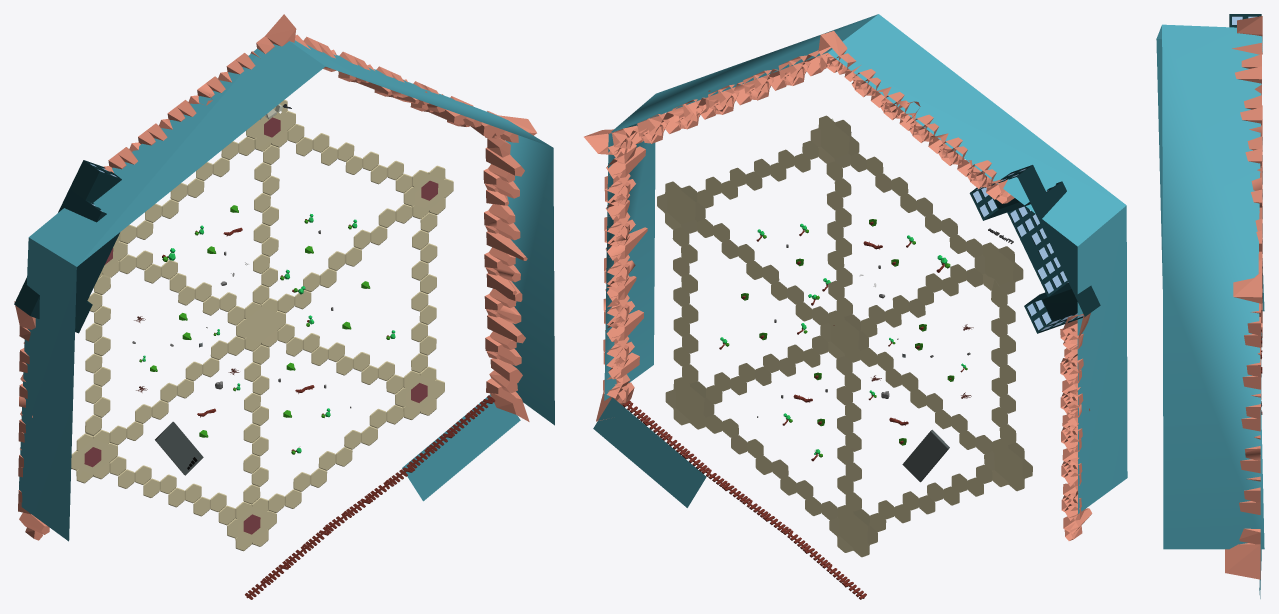
The model's file is MainMap123.glb.
3 renders of one model, left to right at view 1: azimuth 30°, elevation 25°; view 2: azimuth 150°, elevation 25°; view 3: azimuth 270°, elevation 25°, orthographic. The views are drawn at different scales.
Parts seen in each view (by area): view 1: Plane.001, пол.003, Circle.015, stone2.001, Plane, Circle.001, Circle.014, Circle.032, подставкаКлавиатуры; view 2: пол.003, Plane.001, Circle.015, stone2.001, Circle.014, Circle.001, Plane, Circle.032, stone2.003, подставкаКлавиатуры; view 3: Plane.001, Circle.015, Circle.014, Circle.001, Circle.032.
Boxes of the visible parts, <box> form: Plane.001: <box>19,40,554,541</box>; пол.003: <box>71,99,453,551</box>; Circle.015: <box>483,137,529,421</box>; stone2.001: <box>14,160,121,333</box>; Plane: <box>402,394,520,501</box>; Circle.001: <box>103,14,296,172</box>; Circle.014: <box>295,34,536,142</box>; Circle.032: <box>14,301,49,540</box>; подставкаКлавиатуры: <box>155,421,203,475</box>; пол.003: <box>657,115,1032,557</box>; Plane.001: <box>604,14,1127,513</box>; Circle.015: <box>596,143,647,421</box>; stone2.001: <box>969,165,1100,333</box>; Circle.014: <box>584,50,834,158</box>; Circle.001: <box>818,31,1014,203</box>; Plane: <box>593,397,706,507</box>; Circle.032: <box>1060,313,1092,540</box>; stone2.003: <box>973,168,1083,330</box>; подставкаКлавиатуры: <box>902,429,949,482</box>; Plane.001: <box>1156,24,1264,549</box>; Circle.015: <box>1225,303,1261,579</box>; Circle.014: <box>1232,43,1261,303</box>; Circle.001: <box>1237,16,1262,54</box>; Circle.032: <box>1261,105,1262,347</box>.
Size of what is drawn, in the model's own units: 139 by 147 by 25.41.
